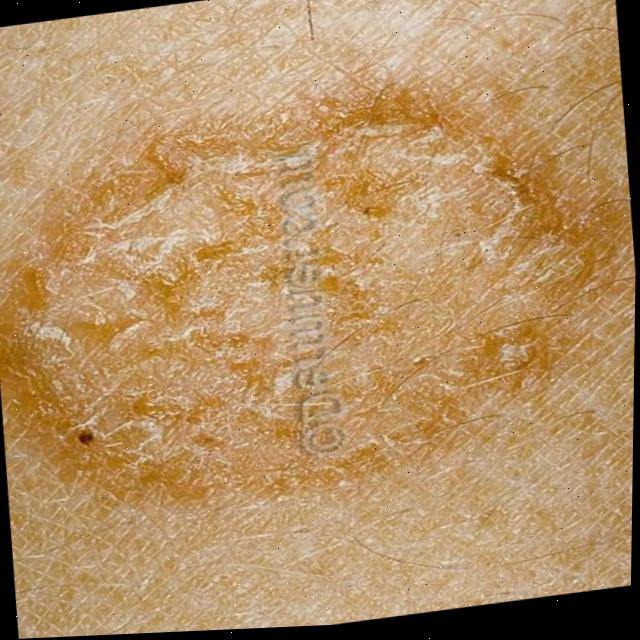Eczema: (11, 65, 588, 570)
